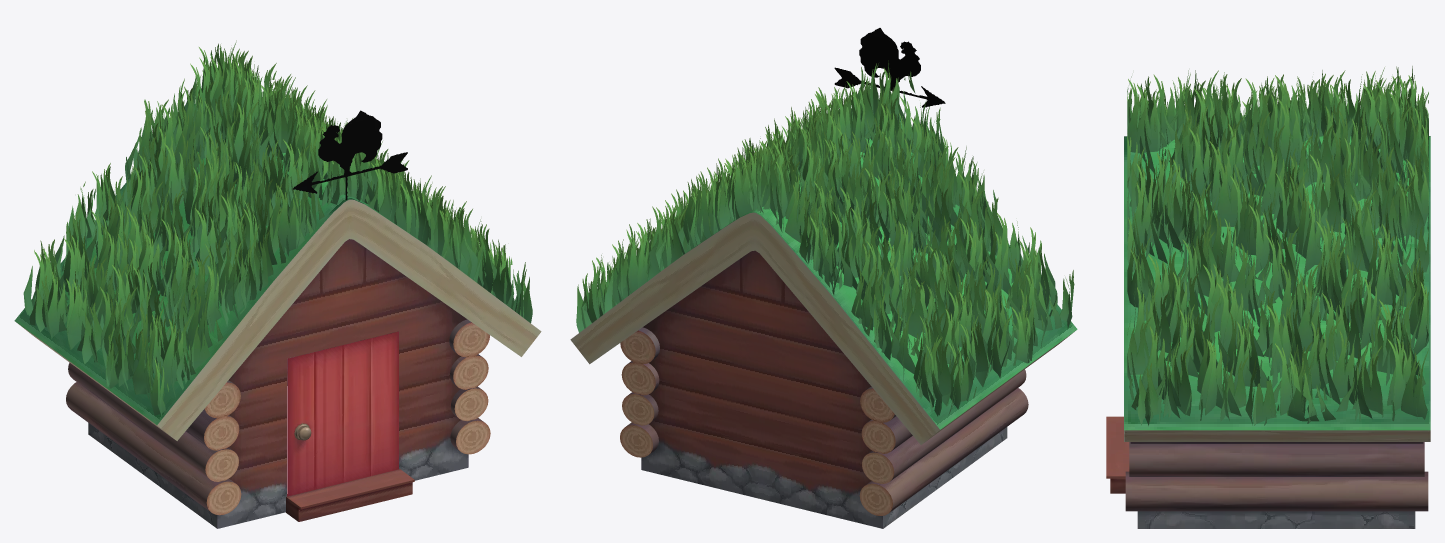
The model's file is cabin-transformed.glb.
3 renders of one model, left to right at view 1: azimuth 30°, elevation 25°; view 2: azimuth 150°, elevation 25°; view 3: azimuth 270°, elevation 25°, orthographic. The views are drawn at different scales.
Parts seen in each view (by area): view 1: cabin, cabin_a; view 2: cabin, cabin_a; view 3: cabin_a, cabin.
Boxes of the visible parts, x1,y1,x2,y2 form: cabin: (14,104,541,528); cabin_a: (23,40,532,416); cabin: (570,119,1077,528); cabin_a: (576,28,1074,416); cabin_a: (1127,66,1428,425); cabin: (1106,136,1430,528).
Bounding box in the file's own units: 3.59 × 3.49 × 2.44.
Materials: 2 (2 with a texture image).
